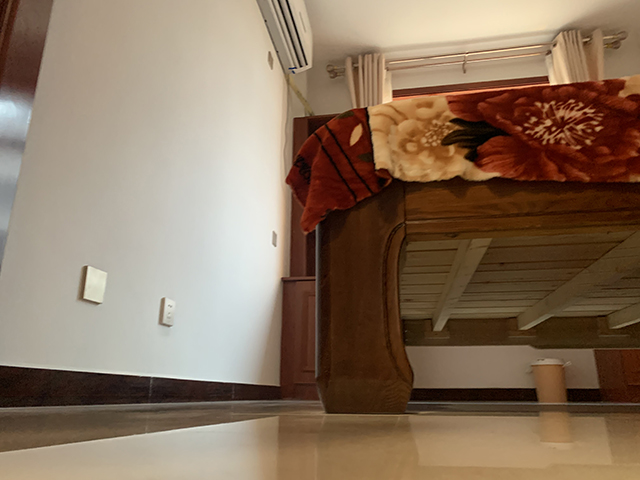bed: (284, 74, 640, 417)
trashcan: (525, 357, 572, 405)
